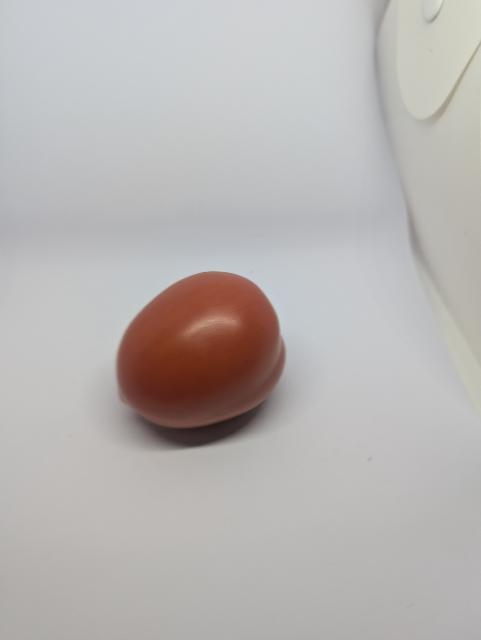red: (98, 248, 303, 465)
